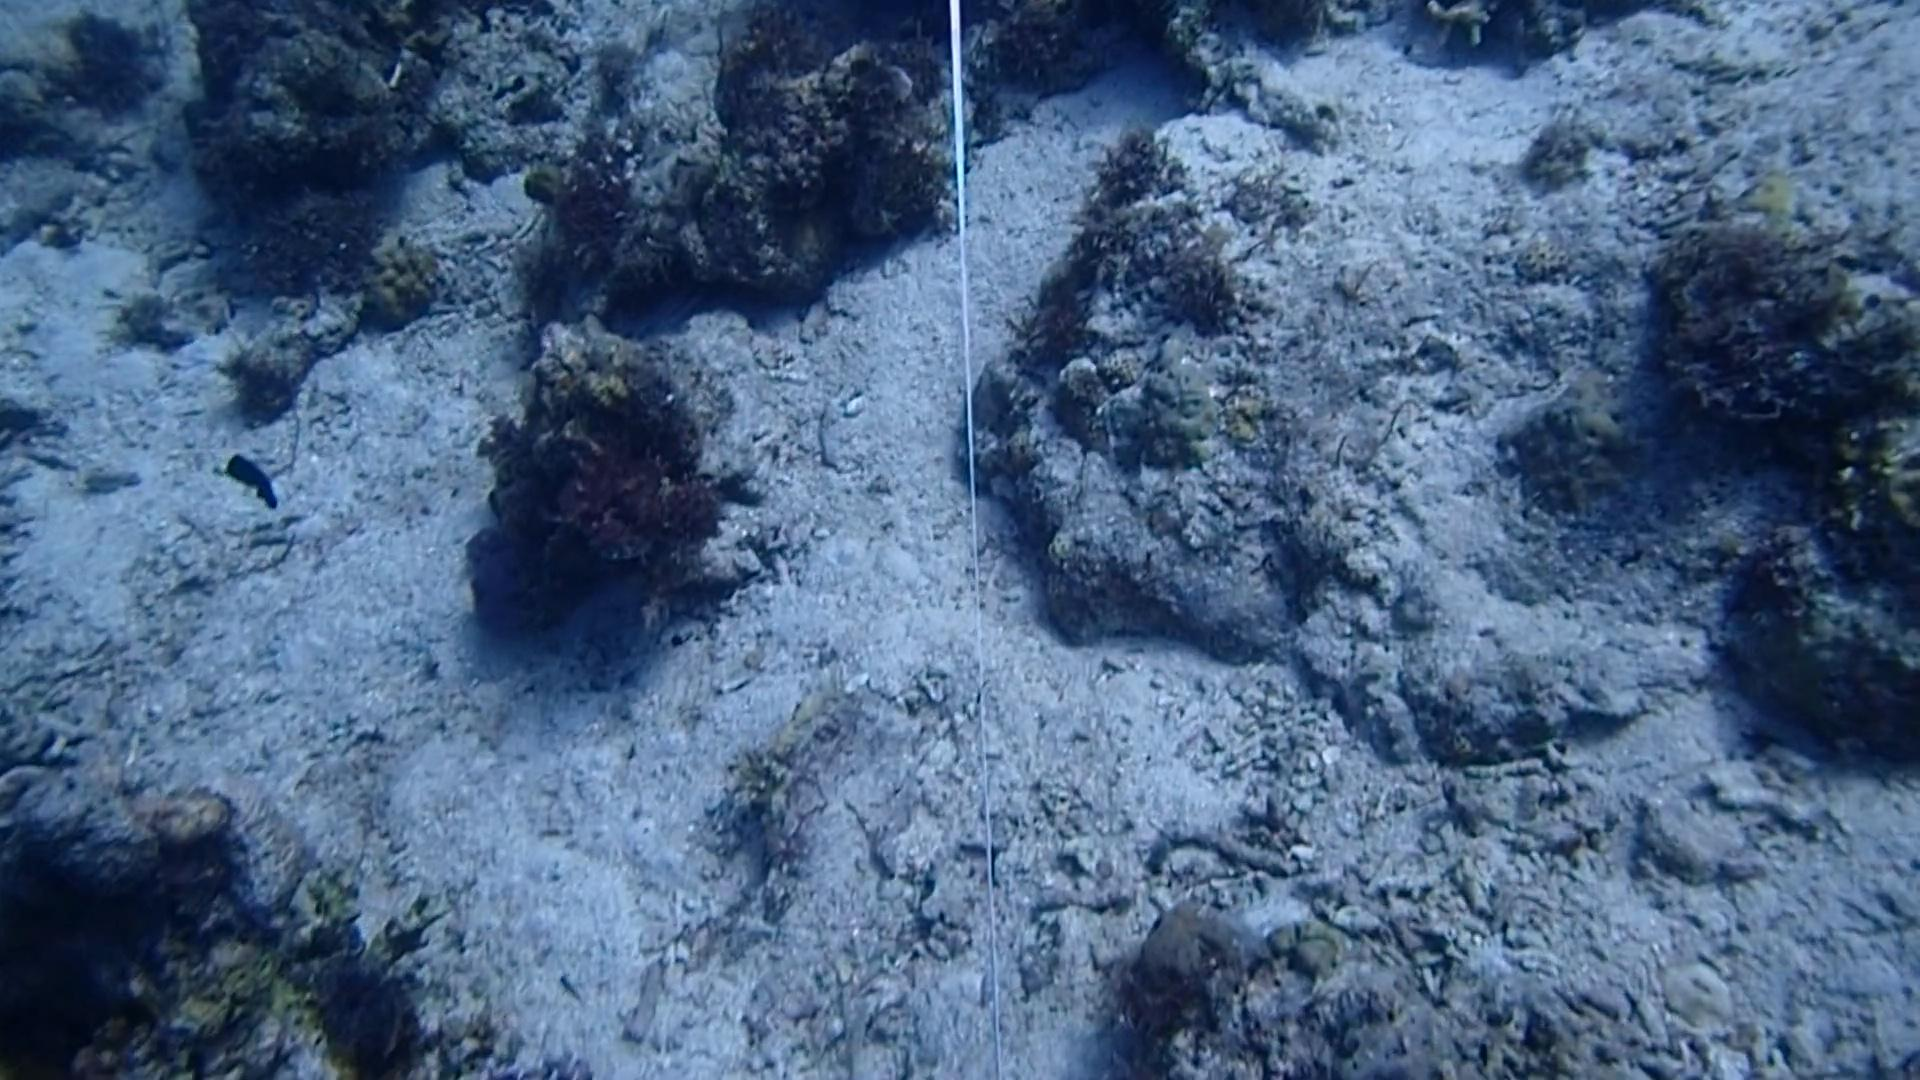Dark Fish: (215, 435, 297, 518)
